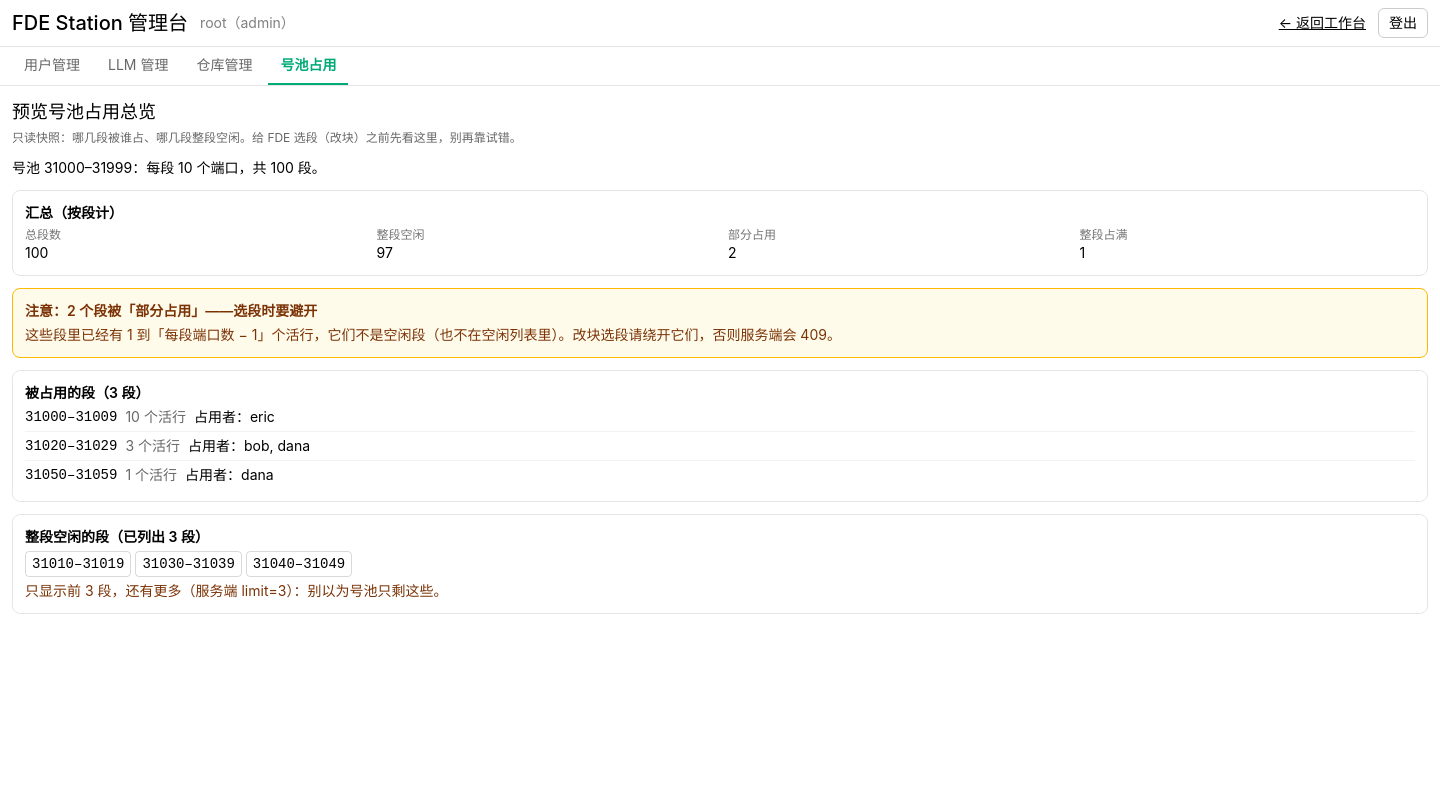
issue #350 判据④：与改块流程接上（引用式 + 只读提示，红线：绝不自动改值/自动提交） › 判据④：看过总览后，改块输入框下方显示「这一段被谁占 / 整段空闲 / 不知道」
Click the link "用户管理": (52, 64) [24,56,80,73]
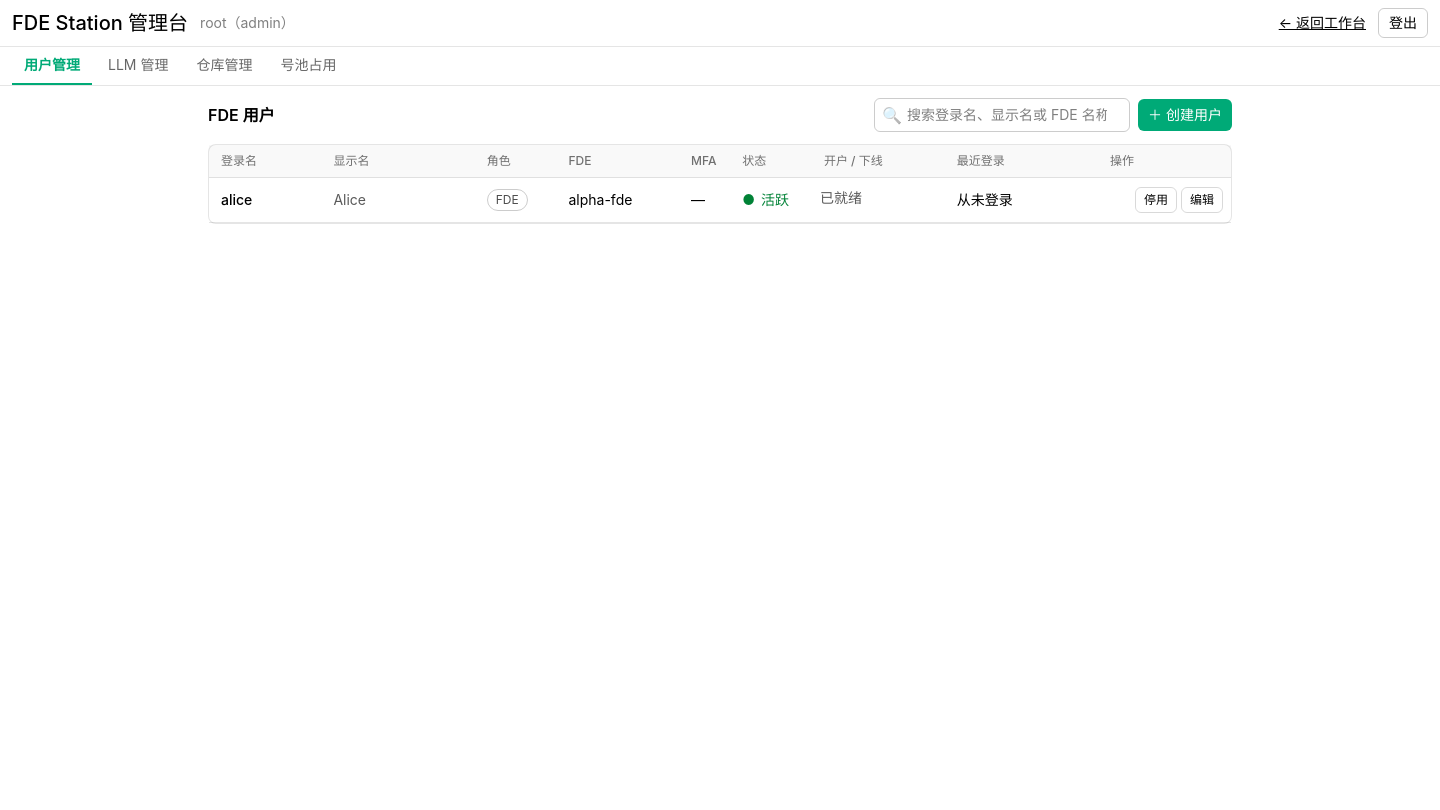
expect the element with test id "user-list" is shown: met, box [208,144,1232,224]
Click the button with test id "edit-user": (1202, 200) [1181,187,1223,213]
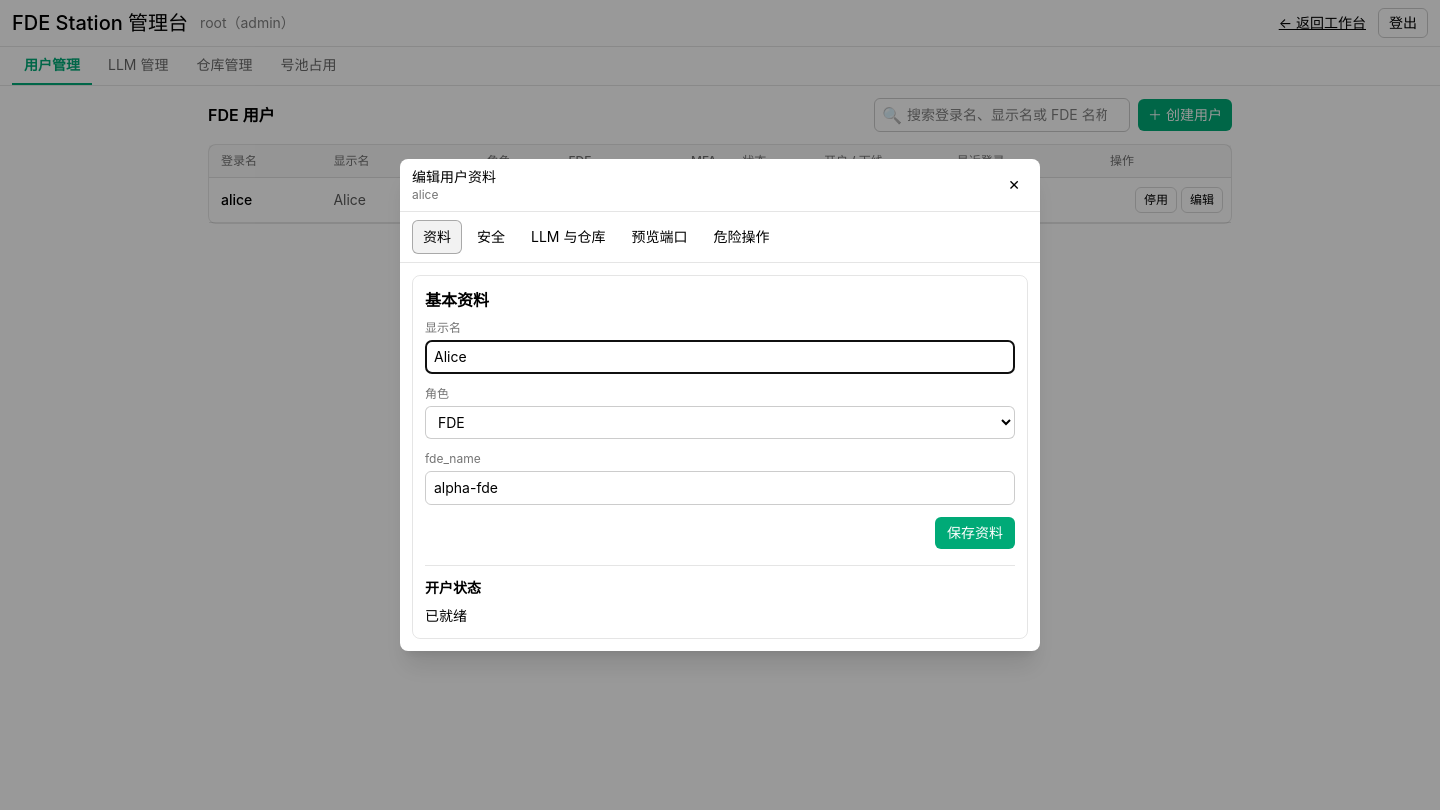
Click the tab with test id "edit-tab-ports": (659, 237) [620,220,698,254]
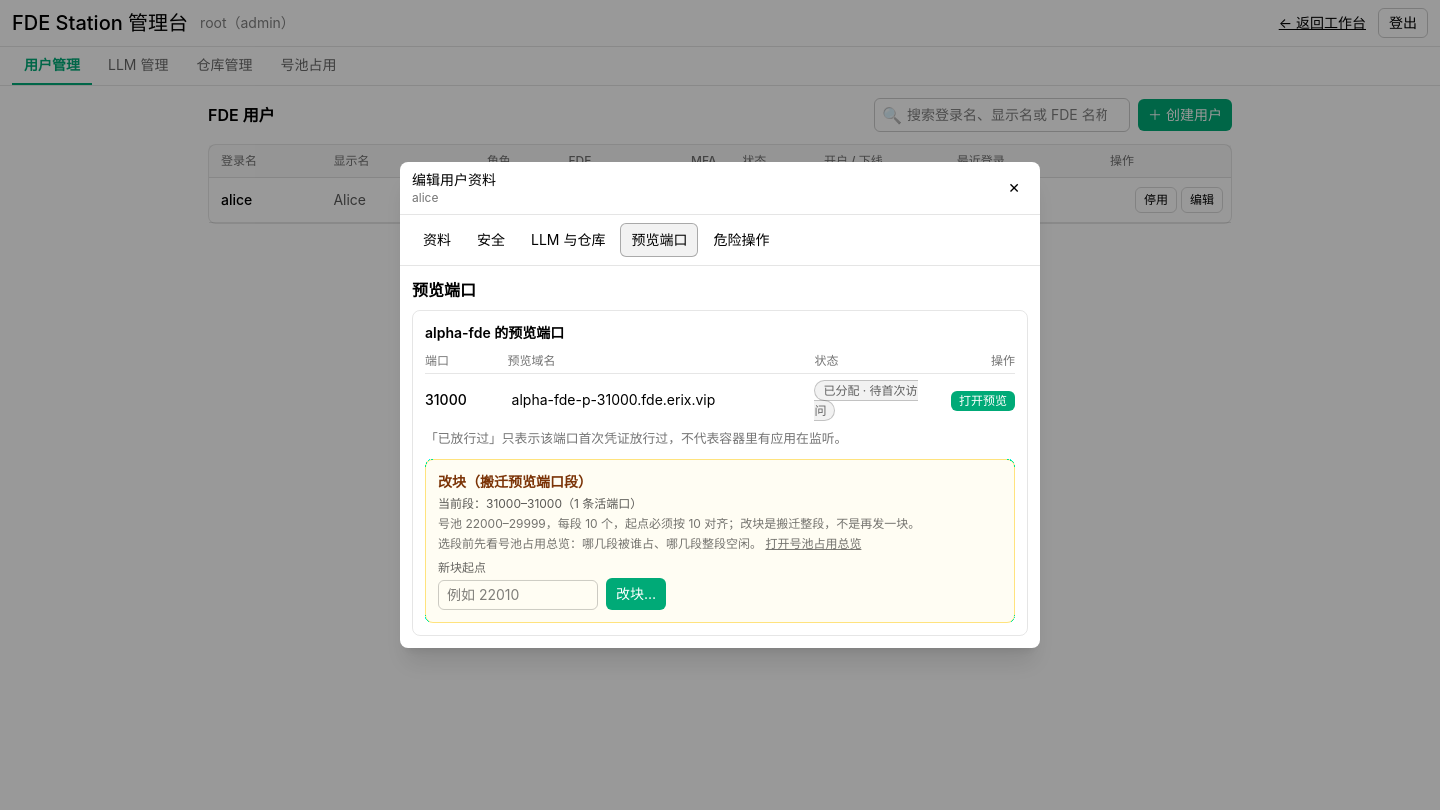
In the number field with test id "block-start-input": (518, 595) [438,580,598,610], type "31020"
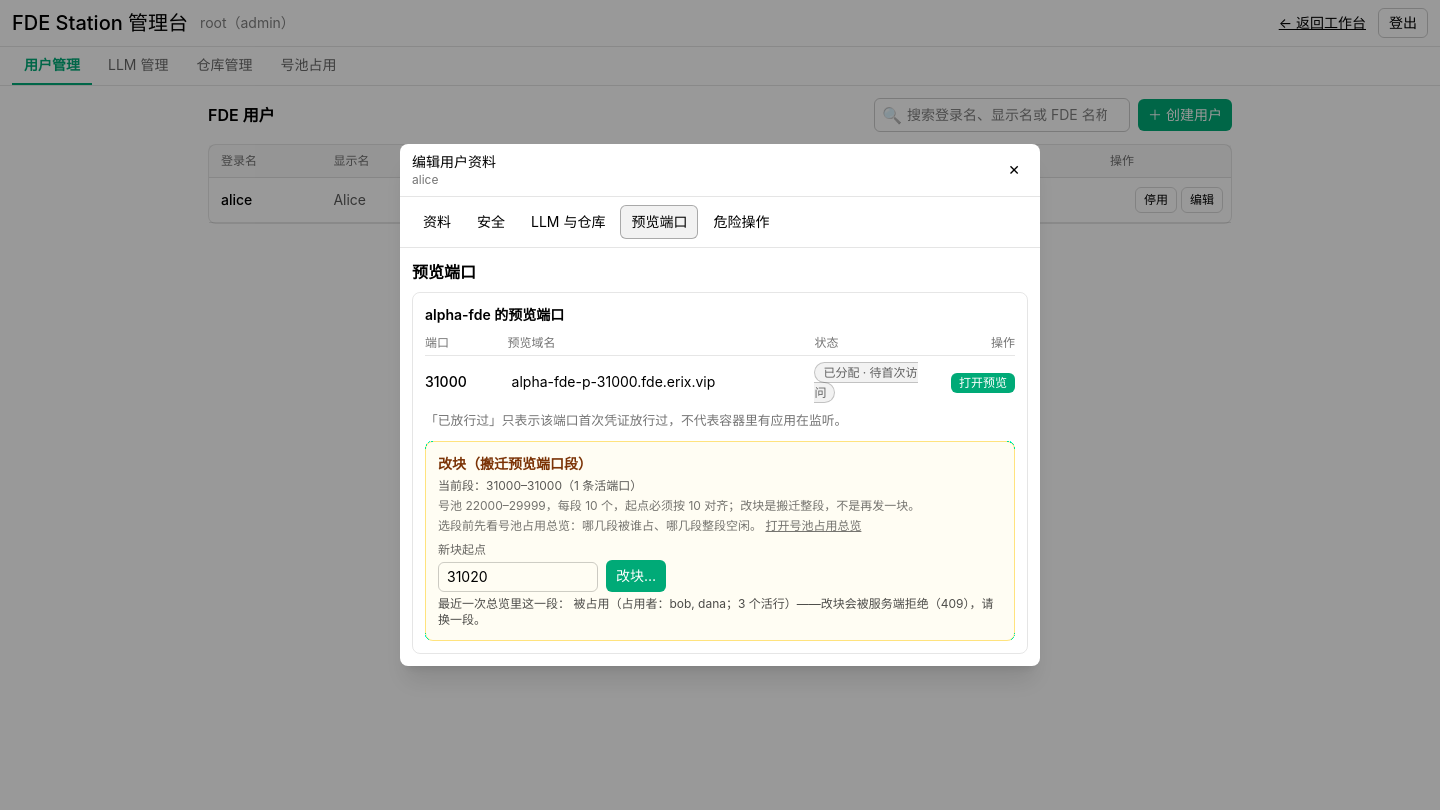
expect the message with test id "block-occupancy-hint" shows "被占用": met, box [438,596,994,627]
expect the message with test id "block-occupancy-hint" shows "bob, dana": met, box [438,596,994,627]
expect the message with test id "block-occupancy-hint" shows "3 个活行": met, box [438,596,994,627]
Replace the text in the number field with test id "block-start-input" with "31030": (518, 577) [438,562,598,592]
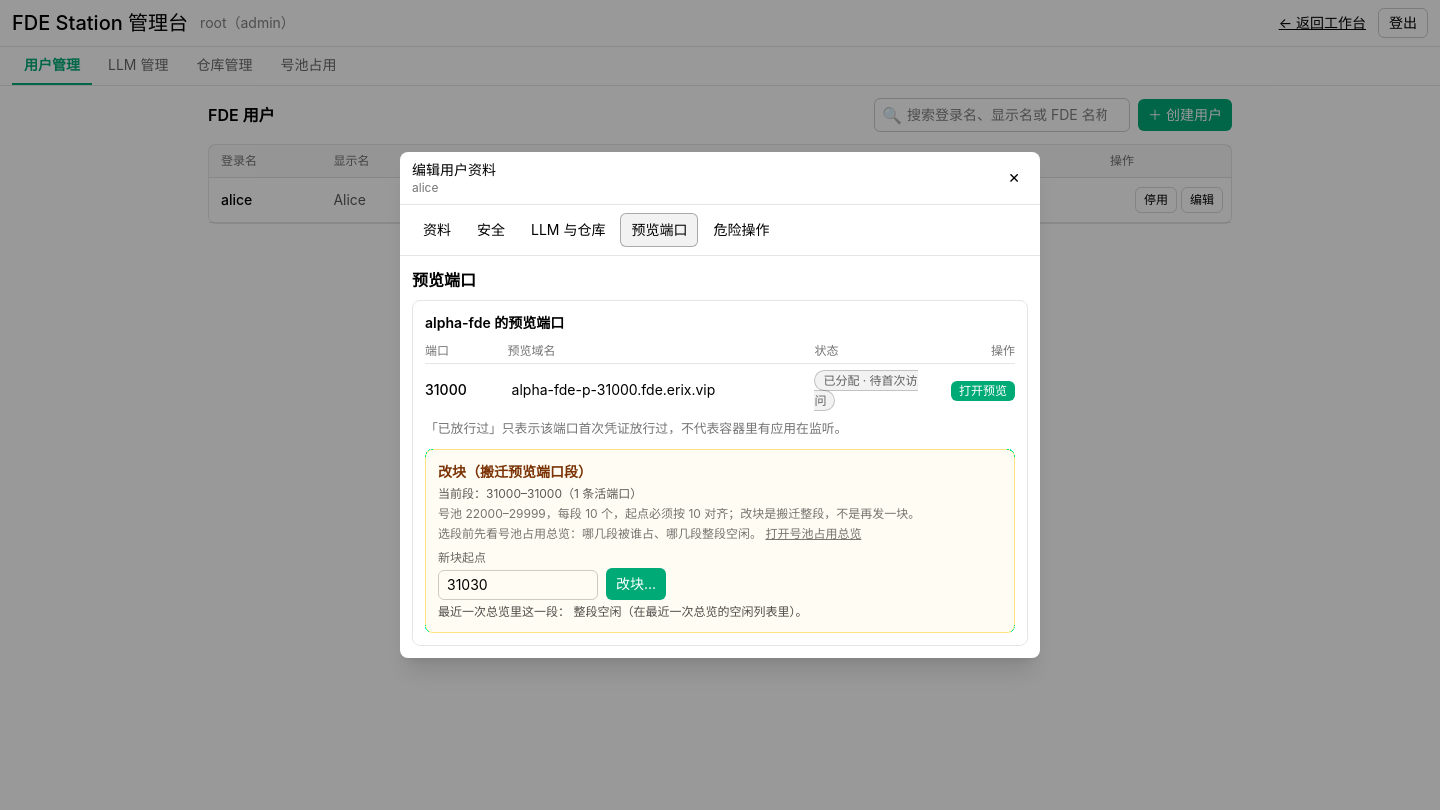
expect the message with test id "block-occupancy-hint" shows "整段空闲": met, box [438,604,807,619]
Replace the text in the number field with test id "block-start-input" with "31100": (518, 585) [438,570,598,600]
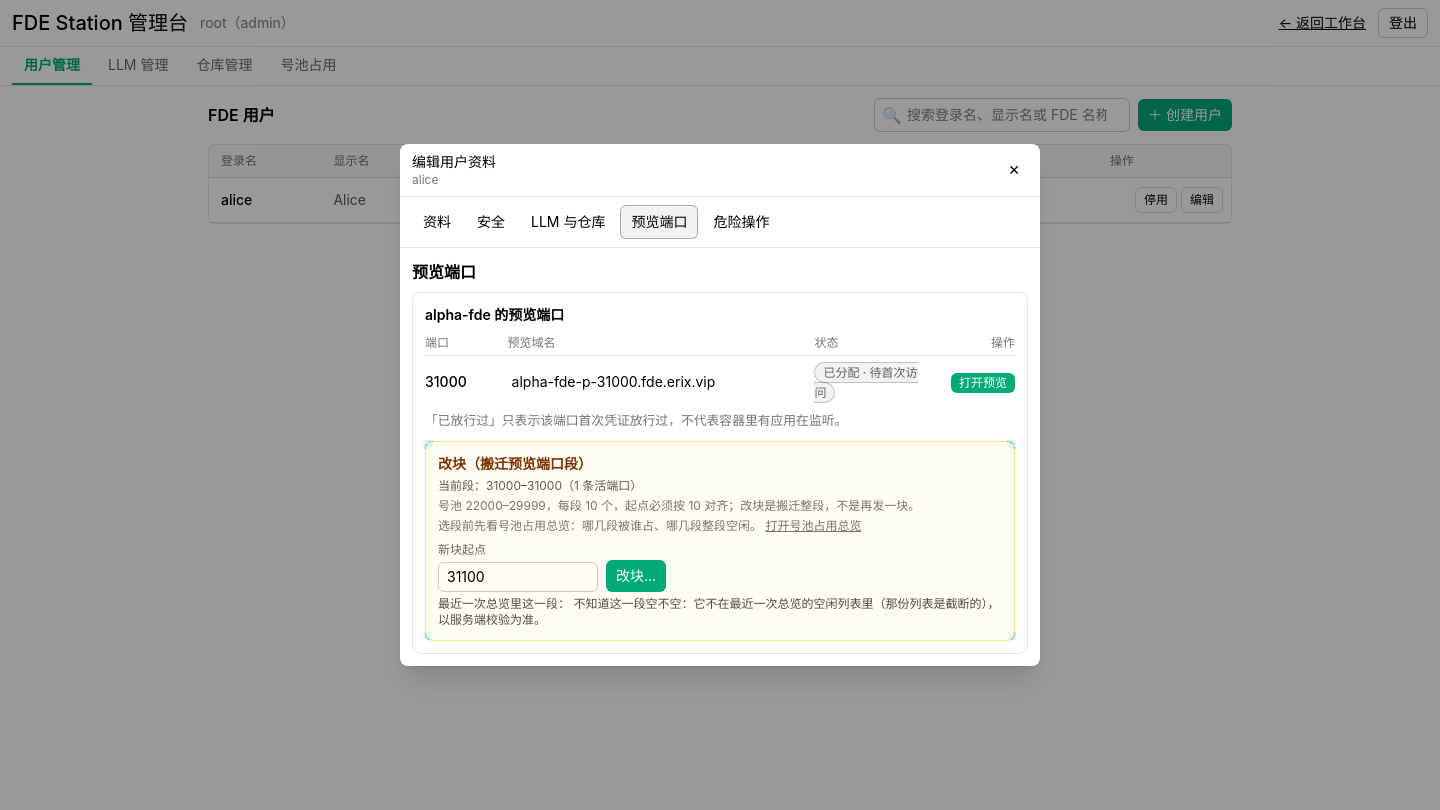
expect the message with test id "block-occupancy-hint" shows "不知道": met, box [438,596,1002,628]
expect the element with test id "block-occupancy-hint" no longer shows "整段空闲": met
